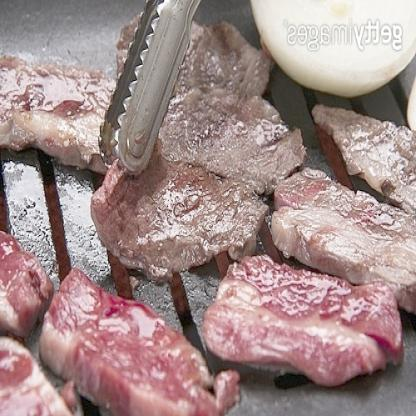Carne: (102, 153, 254, 278), (275, 167, 416, 267), (149, 91, 306, 172), (313, 105, 415, 191), (1, 70, 91, 151), (186, 48, 269, 100)
